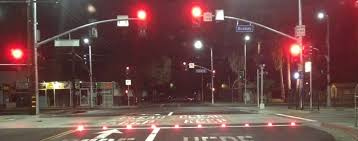signal: (8, 44, 25, 63), (133, 6, 149, 25), (190, 4, 203, 21), (288, 42, 301, 58)
